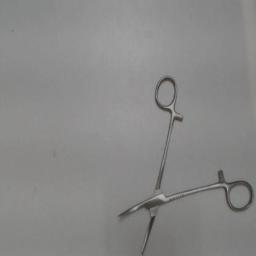Crile Artery Forceps: (112, 70, 256, 254)
